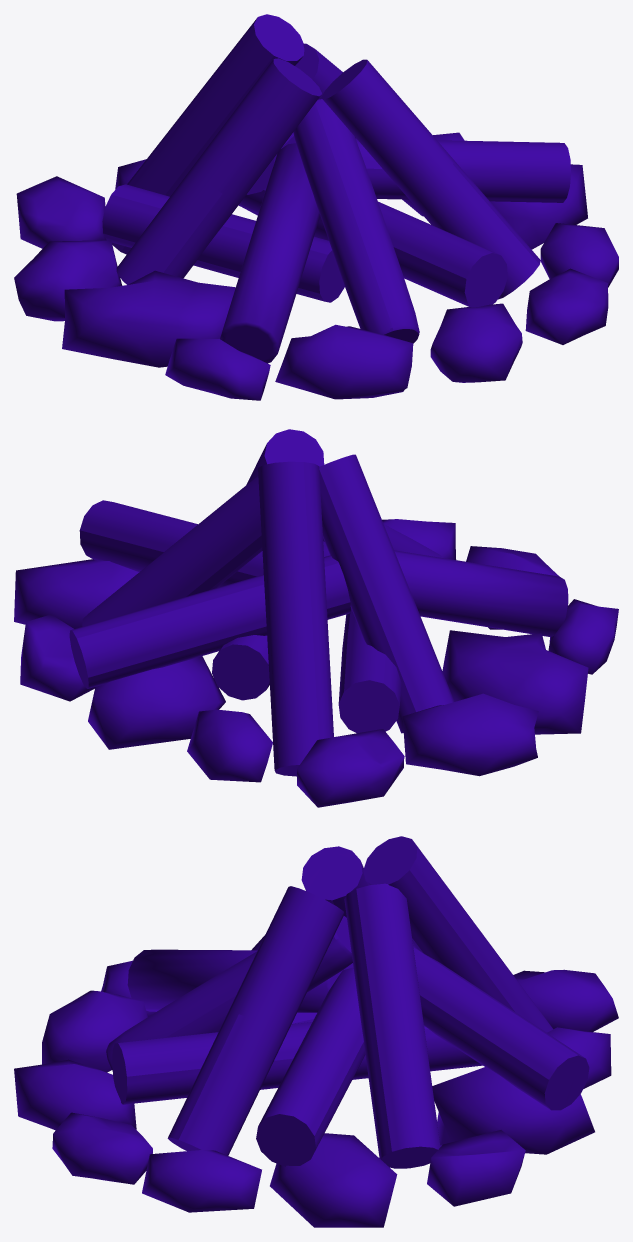
The model's file is feu.fbx.
3 views of the same model, one above another, from view 1: azimuth 30°, elevation 25°; view 2: azimuth 150°, elevation 25°; view 3: azimuth 270°, elevation 25° (orthographic). The views are drawn at different scales.
Visible parts, largest first — view 1: feu_buches, feu_pierre; view 2: feu_buches, feu_pierre; view 3: feu_buches, feu_pierre.
Part boxes in pixels (x1,y1,x2,y2): feu_buches: (102, 14, 570, 363); feu_pierre: (14, 132, 618, 400); feu_buches: (69, 429, 568, 776); feu_pierre: (14, 519, 618, 807); feu_buches: (106, 836, 589, 1168); feu_pierre: (14, 934, 618, 1227).
Bounding box in the file's own units: 7.38 × 3.48 × 6.93.
